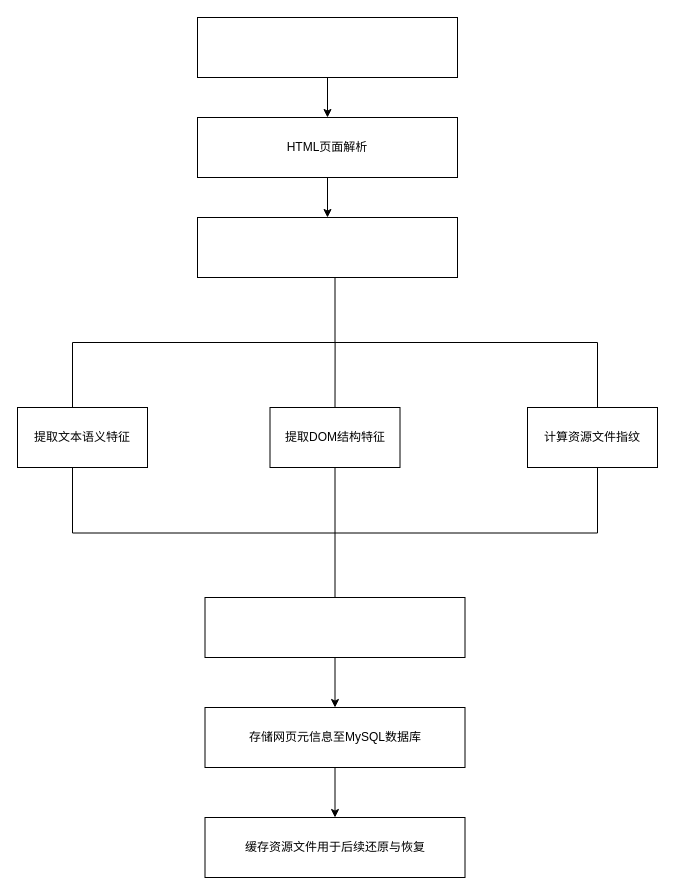
Image size: 675x895. Some labels were removed from this diagram. Each missing label, with the centre of its shape:
下载资源文件（HTML、JS、CSS、PNG等）: (x=327, y=247)
存储语义、DOM、指纹至Milvus向量数据库: (x=334, y=627)
配置网页防篡改策略: (x=327, y=47)
